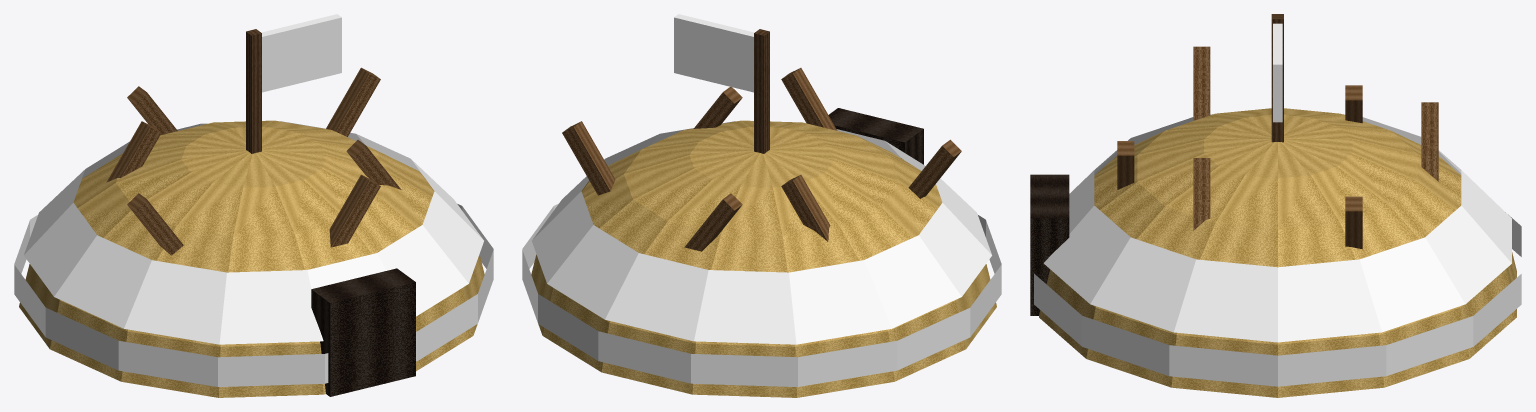
The model's file is nest.glb.
3 views of the same model, side by side, from view 1: azimuth 30°, elevation 25°; view 2: azimuth 150°, elevation 25°; view 3: azimuth 270°, elevation 25° (orthographic). The views are drawn at different scales.
Parts seen in each view (by area): view 1: Nest, NestTint; view 2: Nest, NestTint; view 3: Nest, NestTint.
Boxes of the visible parts, x1=… form: Nest: x1=19, y1=29, x2=484, y2=397; NestTint: x1=14, y1=14, x2=493, y2=386; Nest: x1=531, y1=29, x2=996, y2=397; NestTint: x1=522, y1=14, x2=1001, y2=386; Nest: x1=1030, y1=14, x2=1516, y2=397; NestTint: x1=1034, y1=23, x2=1521, y2=386.
Size of the model in its own units: 2.04 by 1.25 by 2.
Materials: 2 (1 with a texture image).
